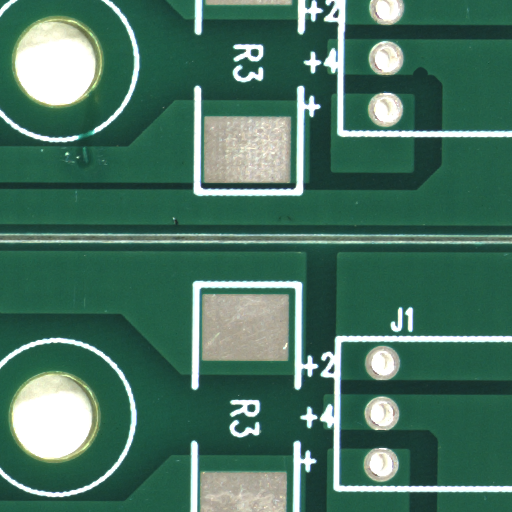Mouse_bite: (420, 72, 433, 82)
